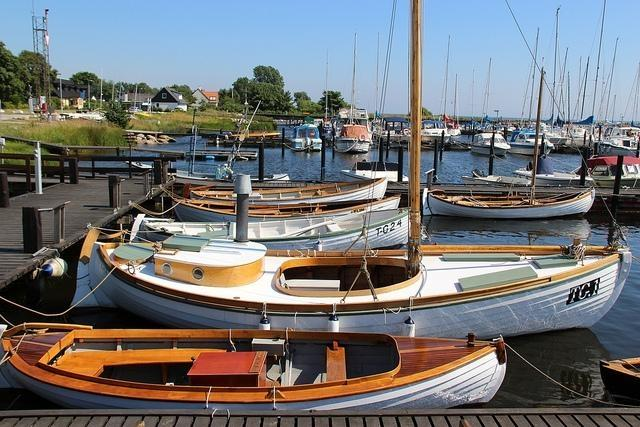car: (127, 106, 143, 116), (174, 108, 184, 112)
